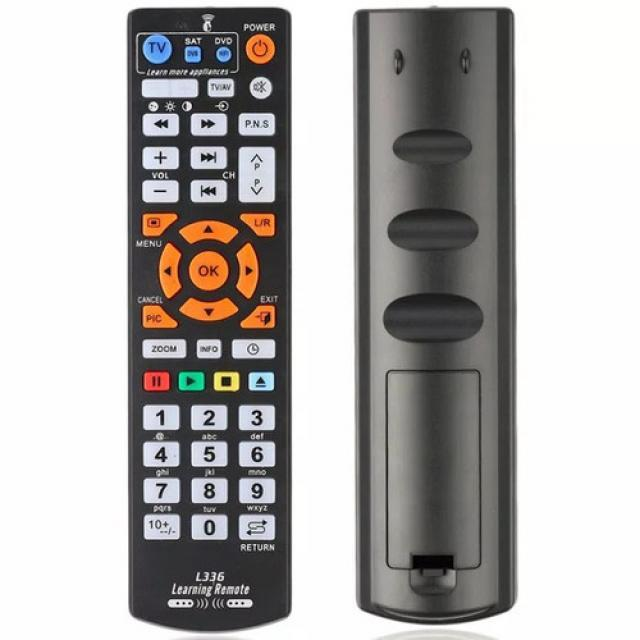remote: (352, 10, 518, 625), (129, 10, 294, 623)
